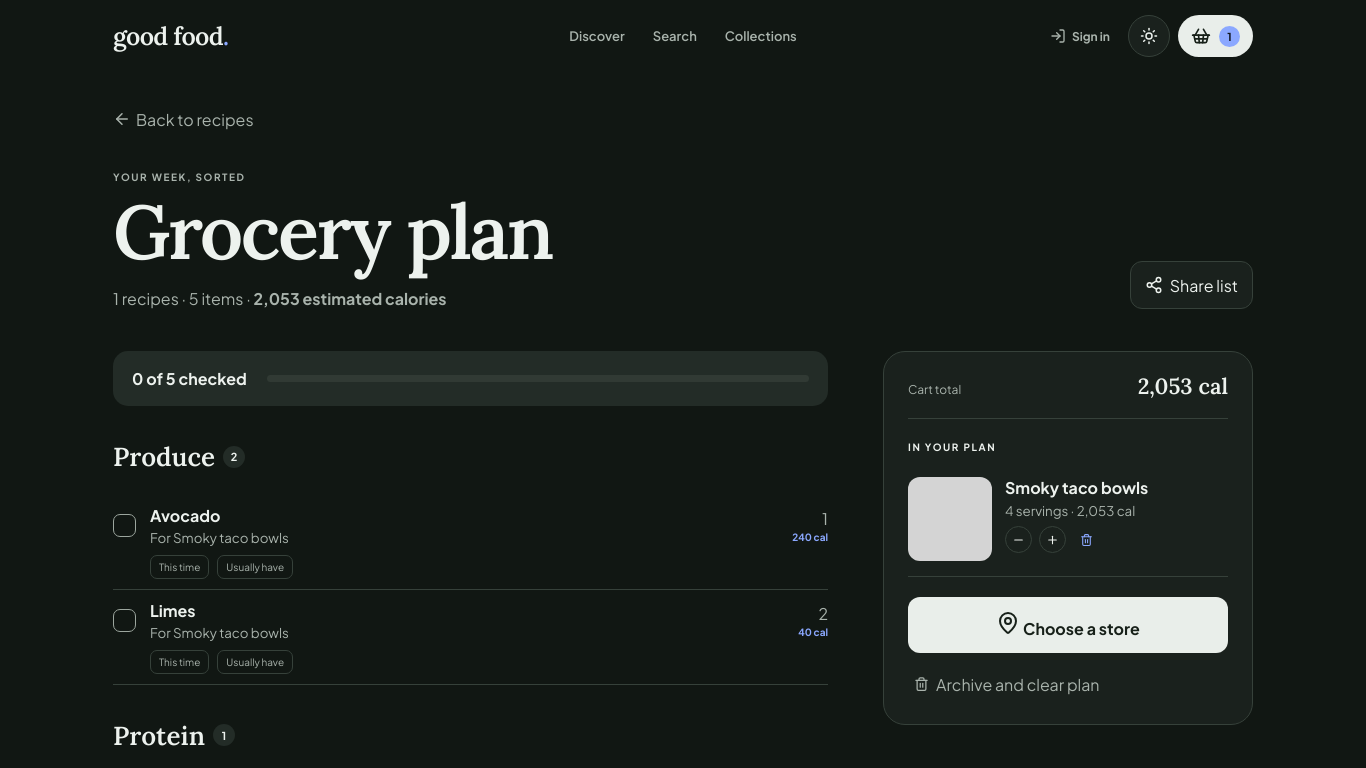
Test: active grocery plan › archives and clears the active plan only after confirmation
What coordinates should you click on to do the following:
click the button "Archive and clear plan"
I would click on:
 (1007, 684)
Its box is [908,671,1106,697].
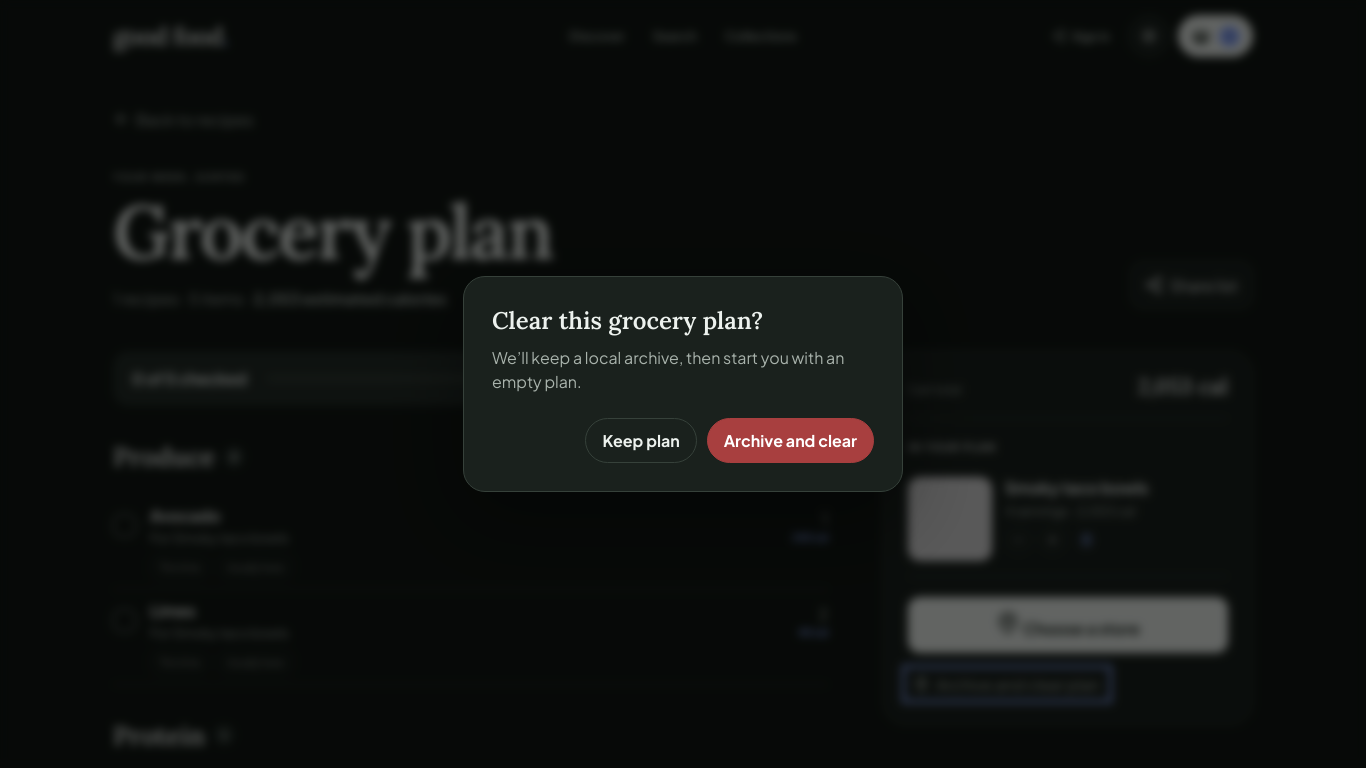
Now the dialog "Clear this grocery plan?" is shown, box [463,276,903,492]
What coordinates should you click on to do the following:
click the button "Archive and clear"
I would click on:
 (790, 440)
Its box is [707,418,874,463].
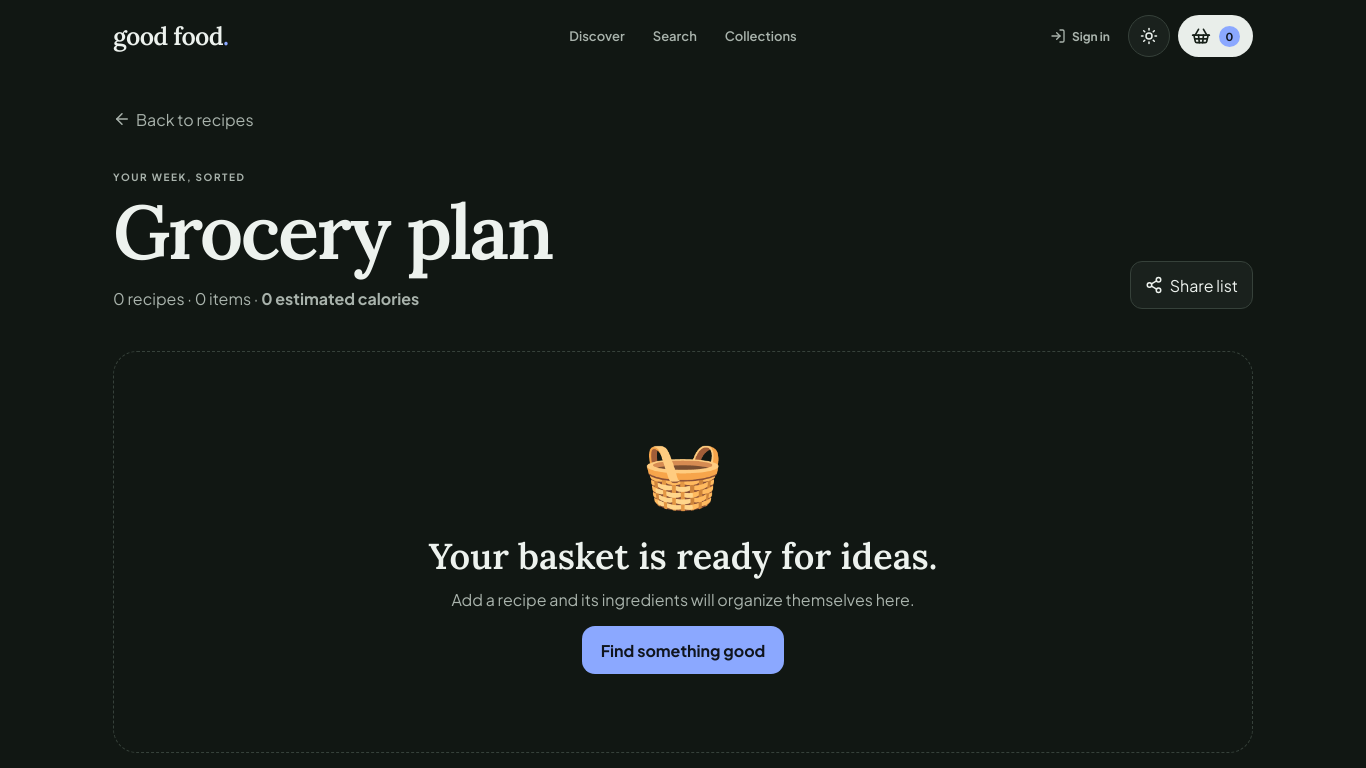
Now the heading "Your basket is ready for ideas." is shown, box [429,533,937,579]
